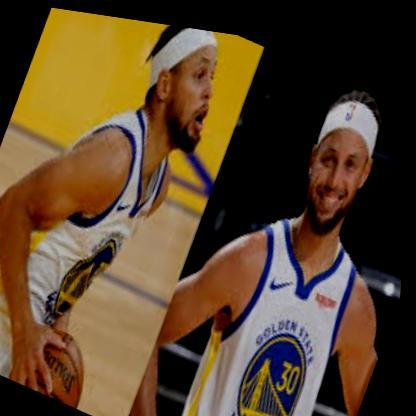basketball: (19, 315, 107, 407)
